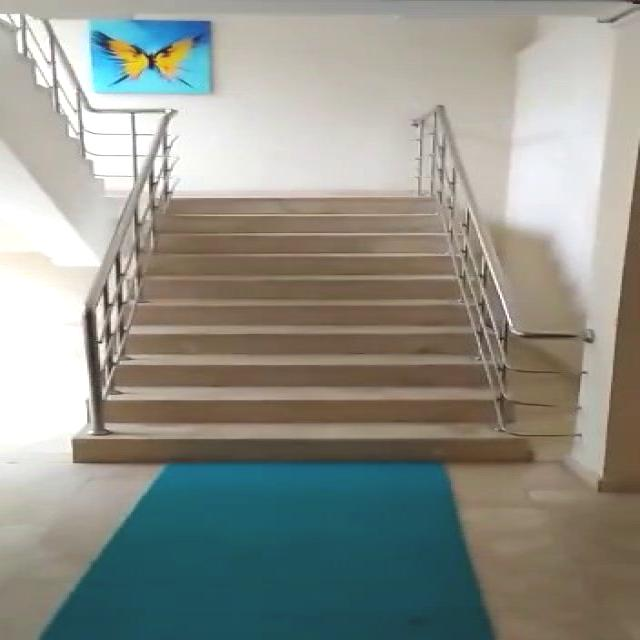stair: (86, 193, 541, 468)
